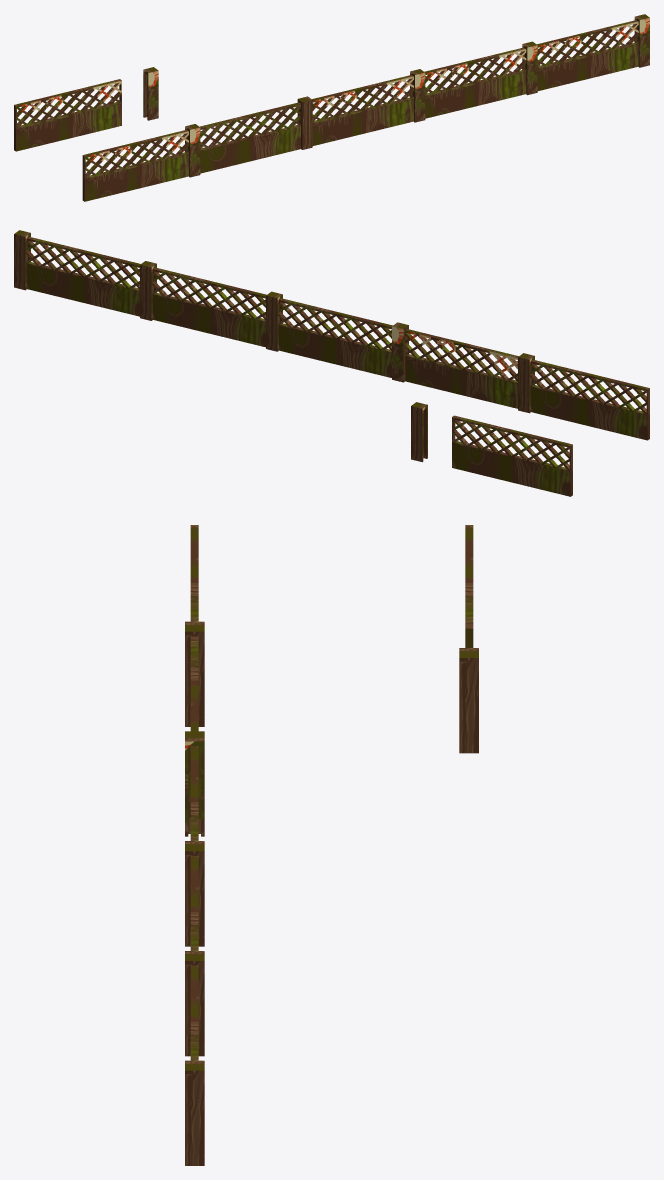
3 renders of one model, top to bottom at view 1: azimuth 30°, elevation 25°; view 2: azimuth 150°, elevation 25°; view 3: azimuth 270°, elevation 25°, orthographic. The views are drawn at different scales.
Parts seen in each view (by area): view 1: all, 01_Mat_0, 02_Mat_0; view 2: all, 01_Mat_0, 02_Mat_0; view 3: all, 02_Mat_0, 01_Mat_0.
Boxes of the visible parts, bbox=[...] form: all: bbox=[82, 14, 649, 201]; 01_Mat_0: bbox=[14, 79, 121, 151]; 02_Mat_0: bbox=[143, 67, 158, 120]; all: bbox=[14, 230, 649, 440]; 01_Mat_0: bbox=[452, 415, 572, 496]; 02_Mat_0: bbox=[411, 402, 427, 462]; all: bbox=[185, 525, 204, 1165]; 02_Mat_0: bbox=[459, 648, 478, 753]; 01_Mat_0: bbox=[465, 525, 473, 647].
Size of the model in its own units: 7.98 by 0.644 by 1.8.
